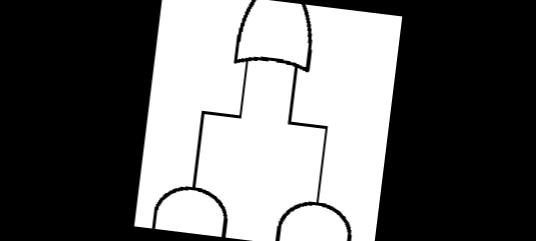and: (142, 159, 244, 238), (263, 172, 368, 241)
or: (219, 0, 335, 90)
